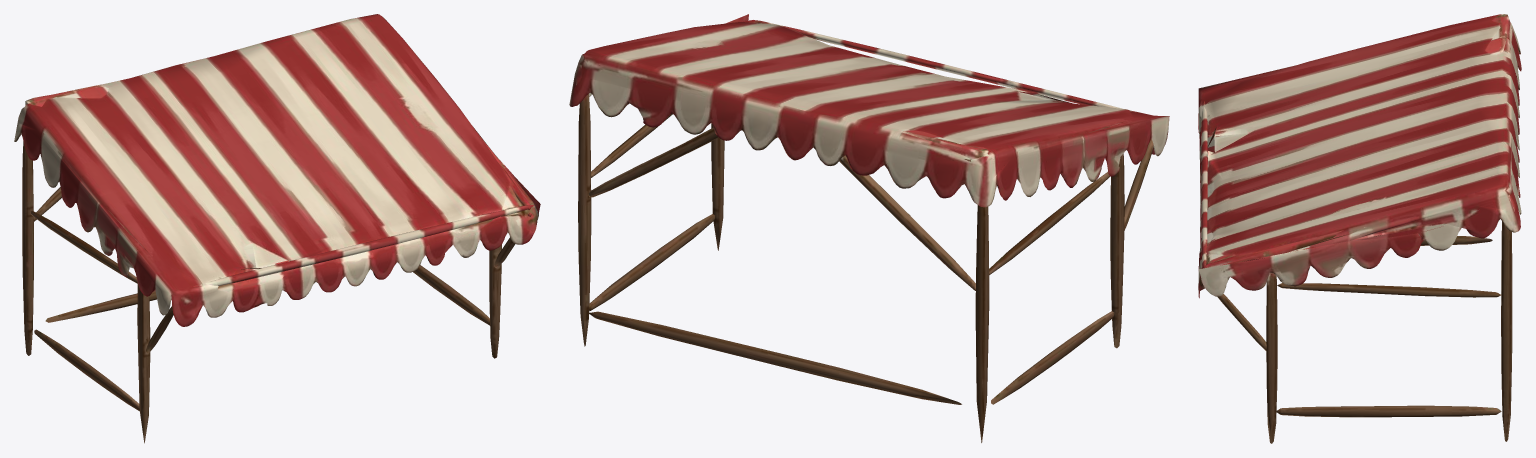
The model's file is StallRedTent.glb.
3 renders of one model, left to right at view 1: azimuth 30°, elevation 25°; view 2: azimuth 150°, elevation 25°; view 3: azimuth 270°, elevation 25°, orthographic. The views are drawn at different scales.
Visible parts, largest first — view 1: StallRedTent; view 2: StallRedTent; view 3: StallRedTent.
Part boxes in pixels (<box>): StallRedTent: <box>14,14,540,443</box>; StallRedTent: <box>569,14,1169,442</box>; StallRedTent: <box>1198,14,1521,443</box>.
Bounding box in the file's own units: 4.15 × 2.78 × 3.12.
Materials: 2 (2 with a texture image).
